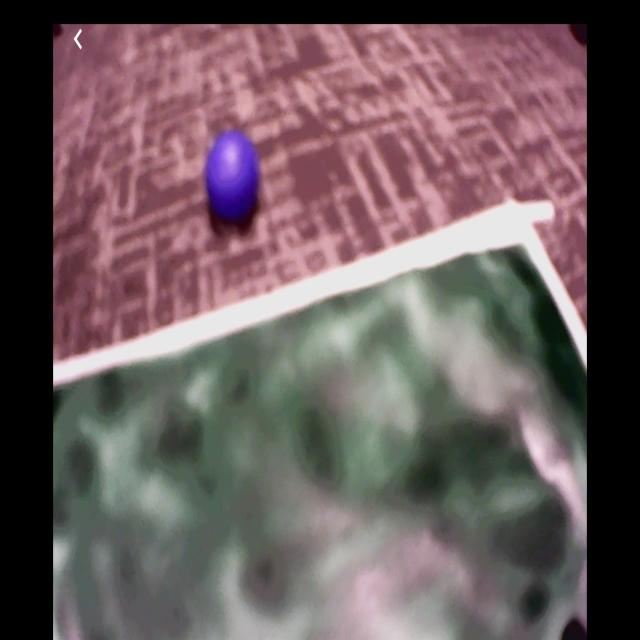ball: (207, 133, 260, 224)
